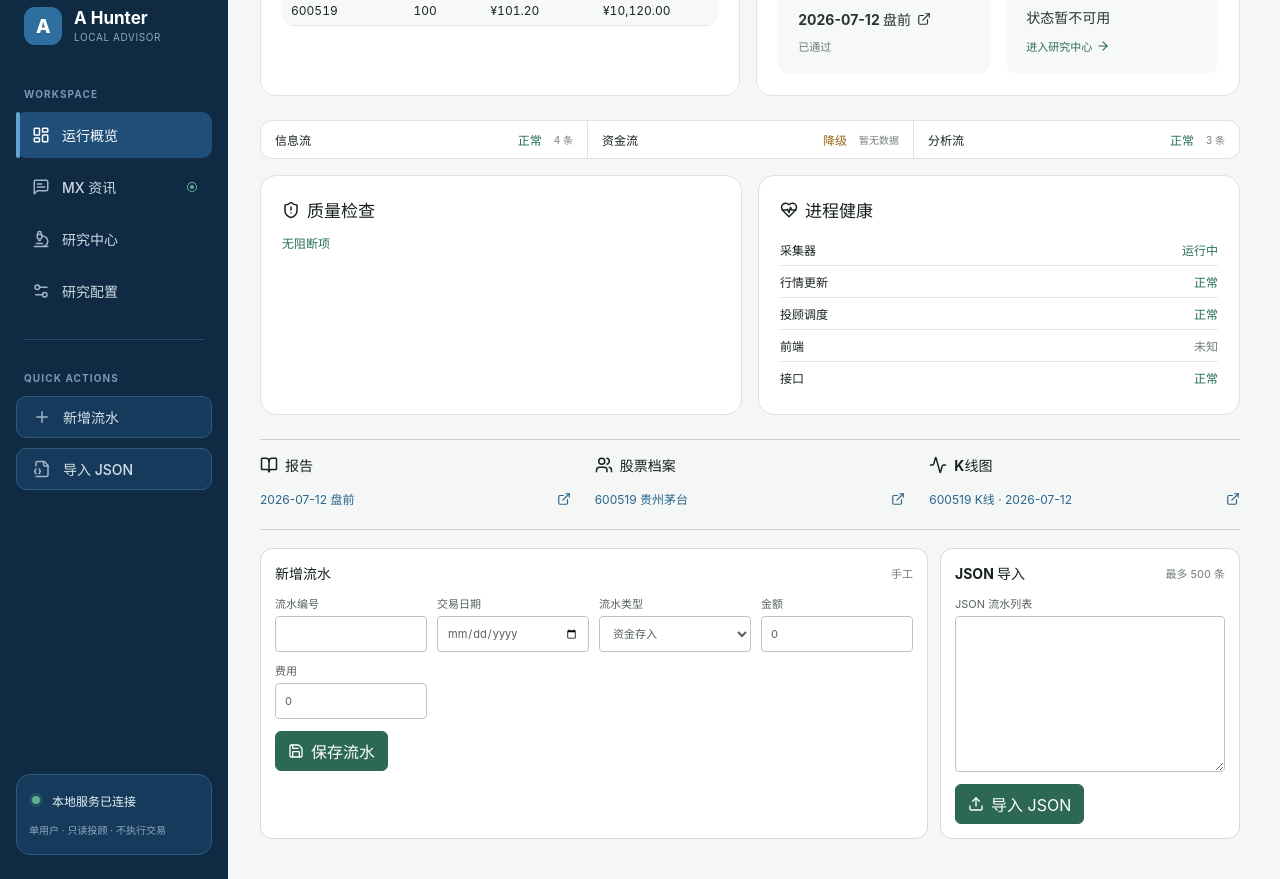
Test case: advisor dashboard › submits a manual ledger transaction and refreshes current state
(page scrolled)
Type "cash-2" into the field labelled "流水编号" at coordinates (351, 634), box [275, 616, 427, 652]
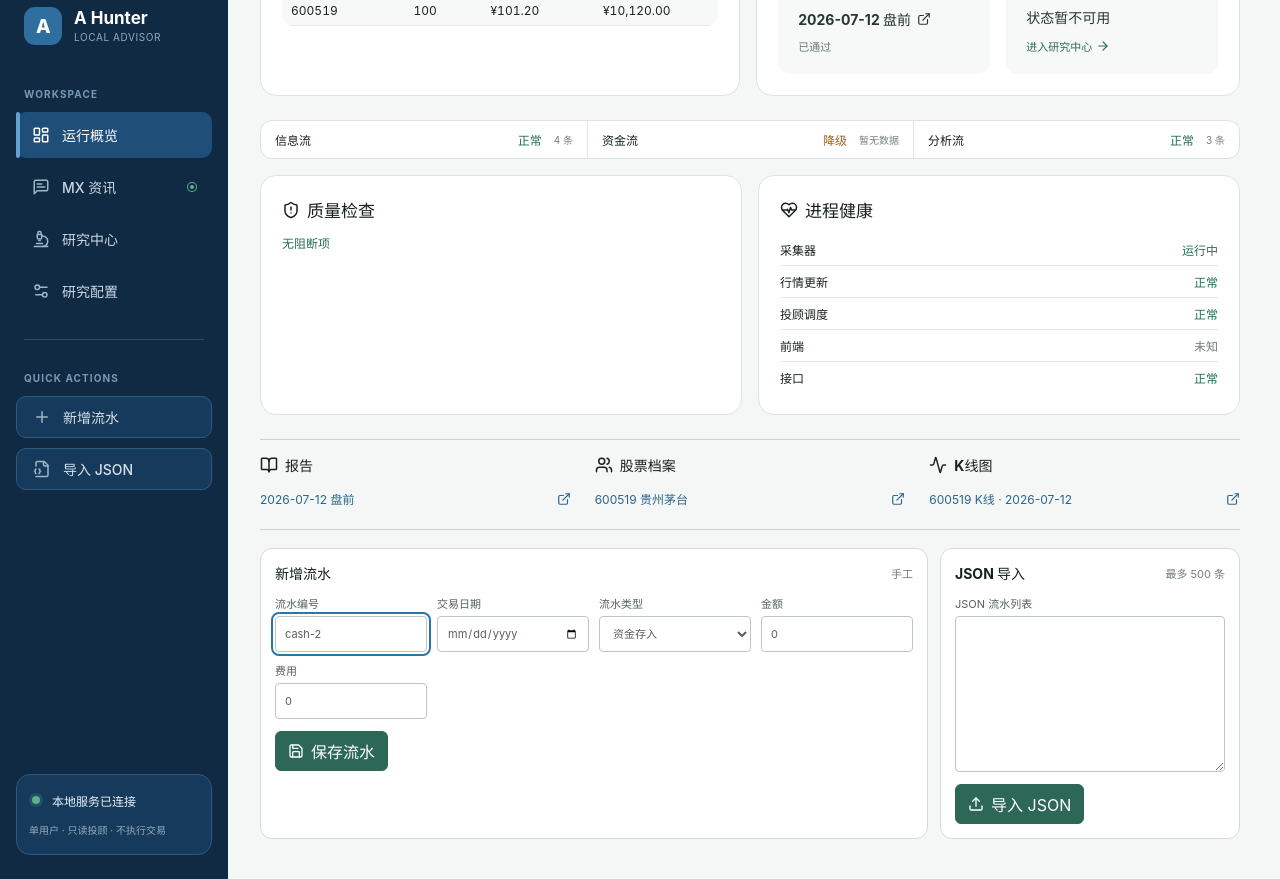
Type "2026-07-12" into the date field labelled "交易日期" at coordinates (513, 634), box [437, 616, 589, 652]
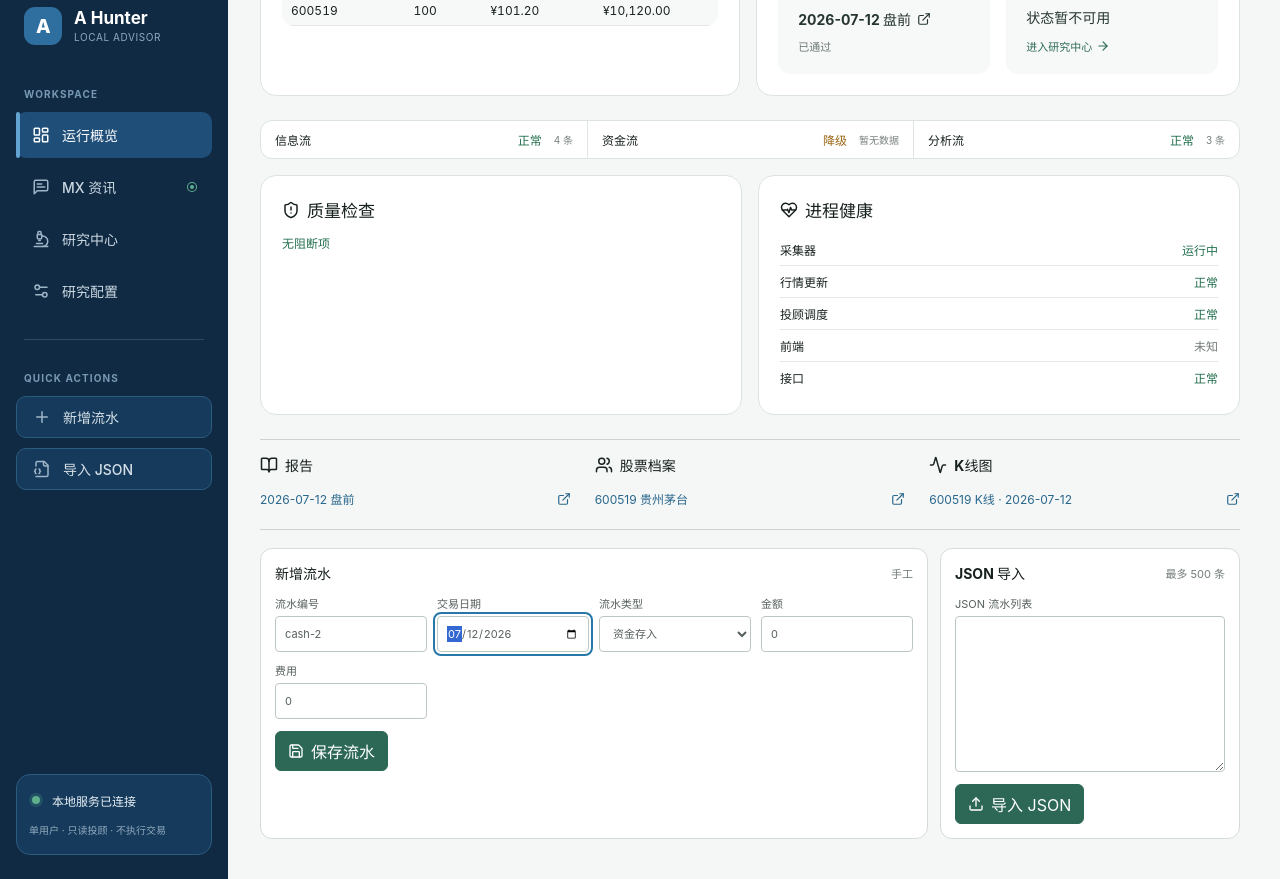
Replace the text in the number field labelled "金额" with "1000" at coordinates (837, 634), box [761, 616, 913, 652]
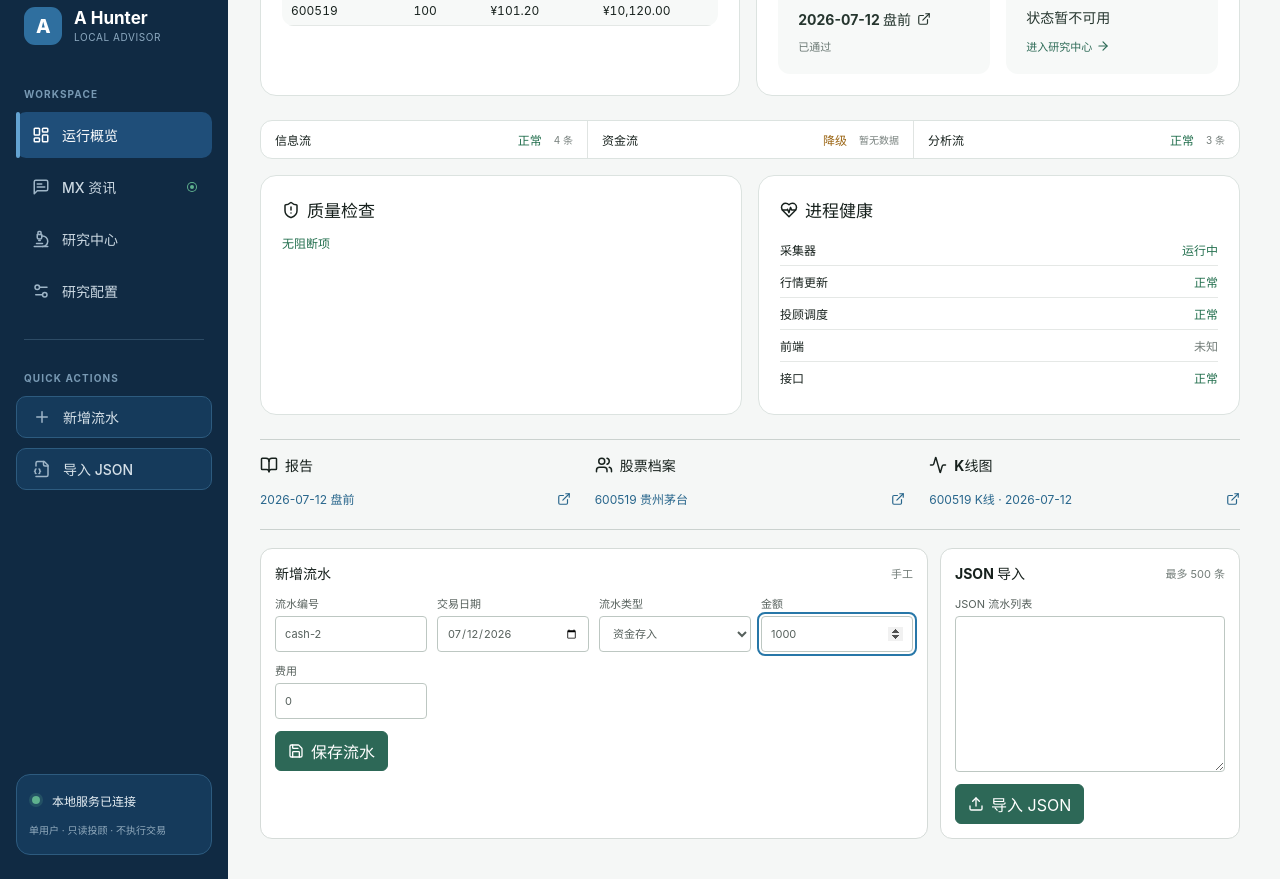
Click the button "保存流水" at coordinates (332, 751), box [275, 731, 388, 771]
(page scrolled)
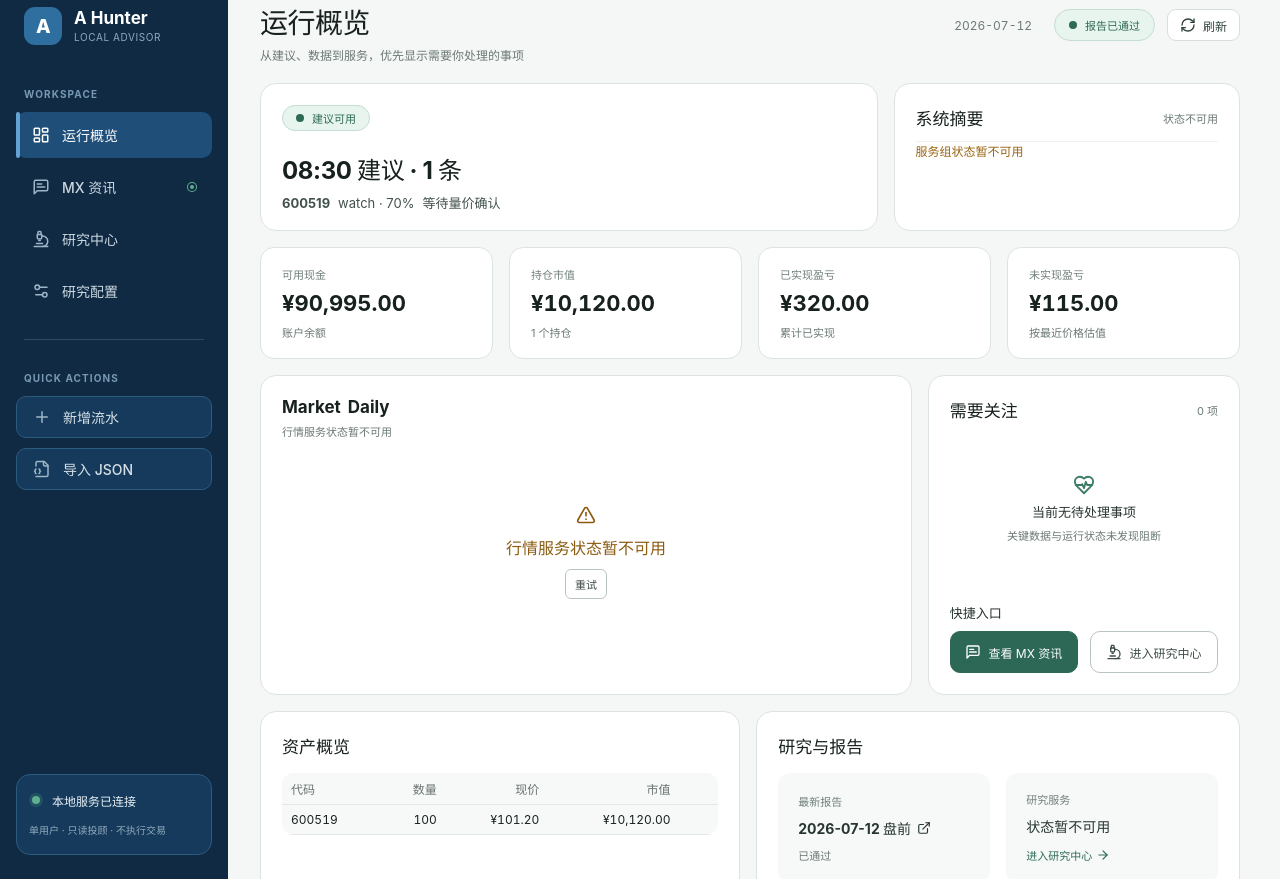
Now the text "¥90,995.00" is shown, box [282, 290, 406, 316]
